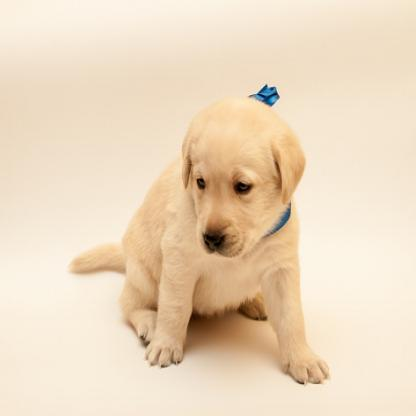Labarador Retriever: (68, 101, 328, 388)
